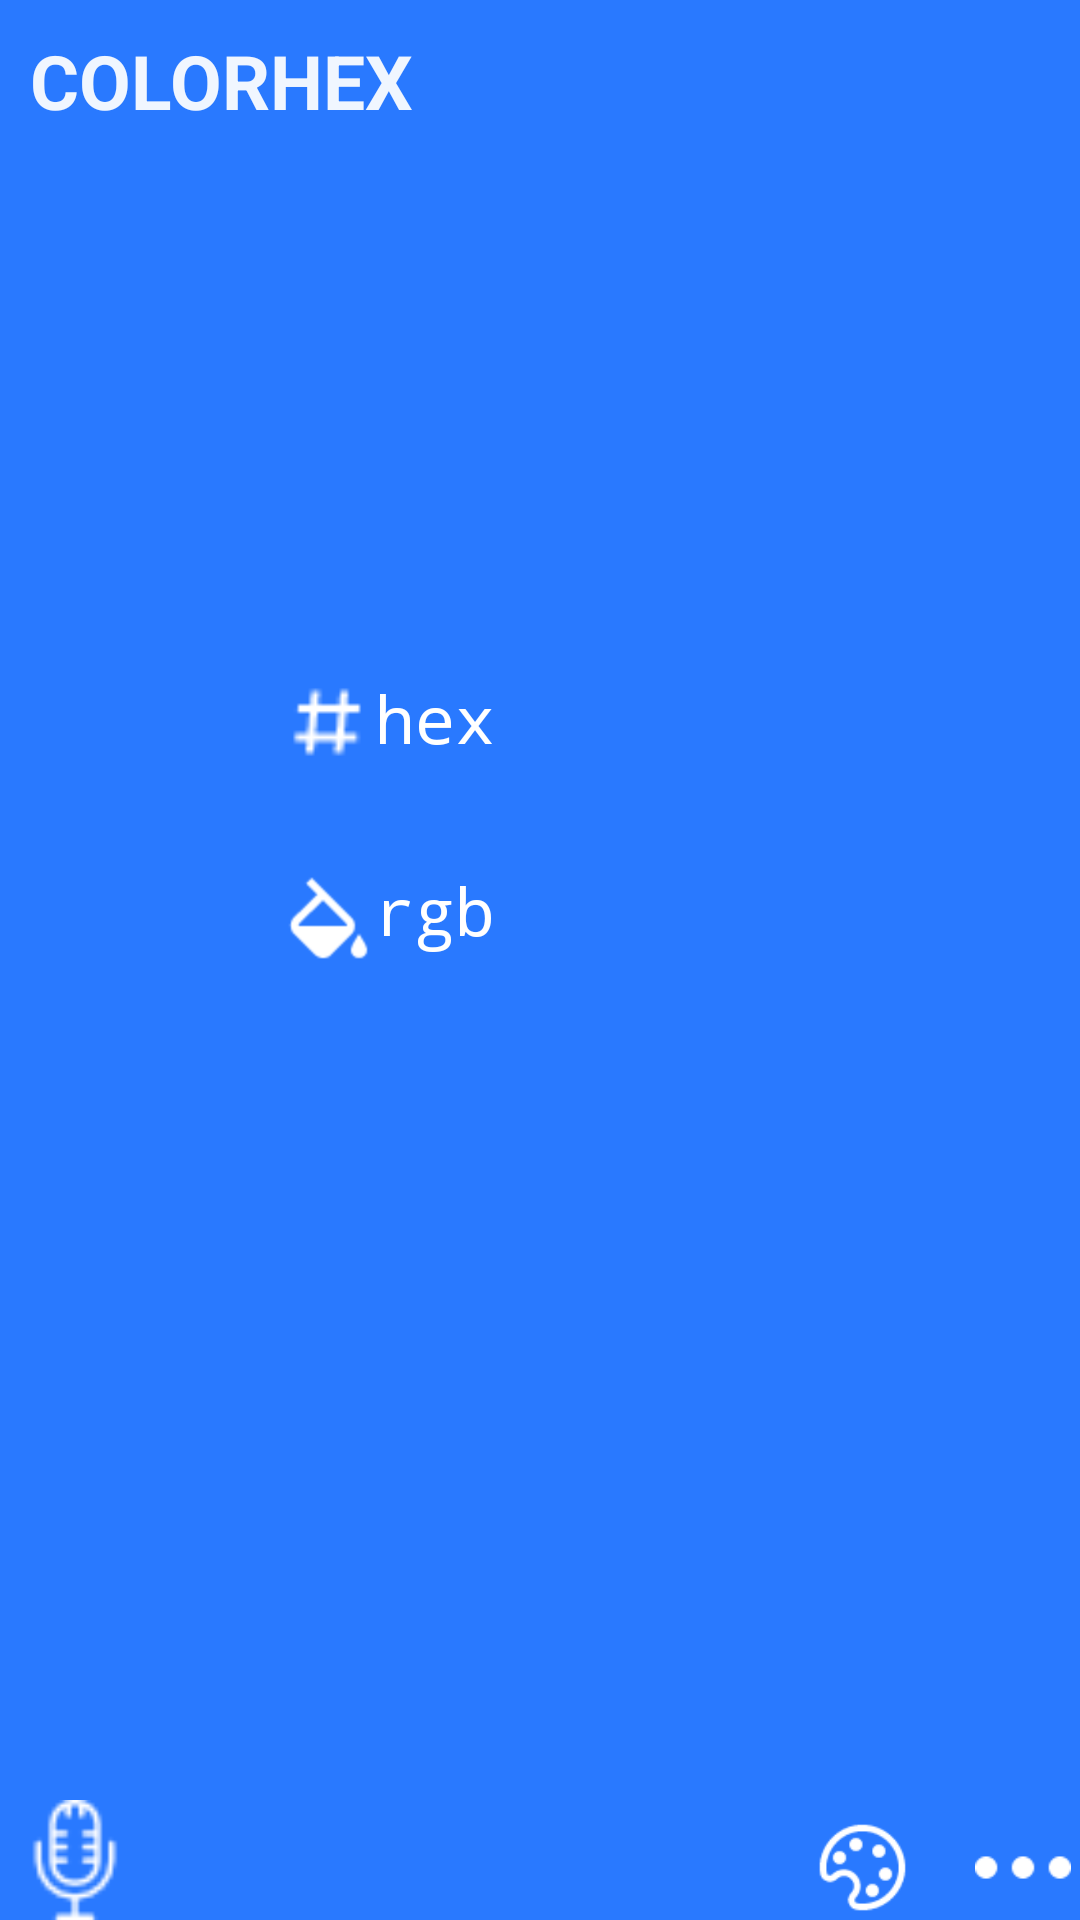

Screen size 1080px x 1920px. Icon name, then its box in pixels as (x1, y1, x2, y2):
menu: (975, 1856, 1071, 1879)
